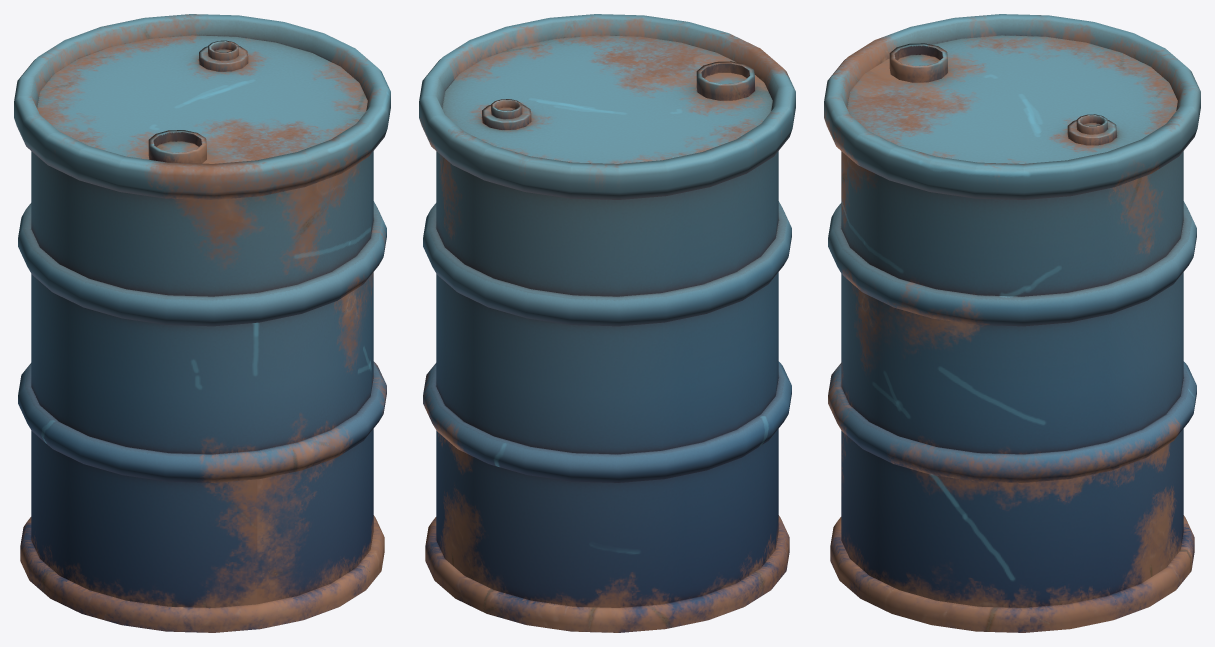
The model's file is OilDrum_Blue.glb.
3 views of the same model, side by side, from view 1: azimuth 30°, elevation 25°; view 2: azimuth 150°, elevation 25°; view 3: azimuth 270°, elevation 25° (orthographic).
Parts seen in each view (by area): view 1: Oil_Drum; view 2: Oil_Drum; view 3: Oil_Drum.
Boxes of the visible parts, left/top/right/bottom form: Oil_Drum: left=14, top=14, right=390, bottom=632; Oil_Drum: left=419, top=14, right=795, bottom=632; Oil_Drum: left=824, top=14, right=1200, bottom=632.
Size of the model in its own units: 0.7164 by 0.9758 by 0.7164.
Materials: 1 (1 with a texture image).
